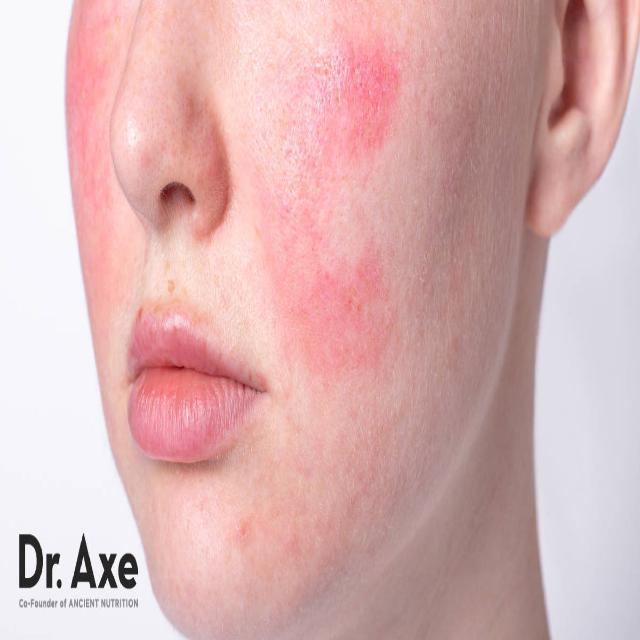Rosacea: (283, 54, 409, 185), (47, 47, 122, 202)
